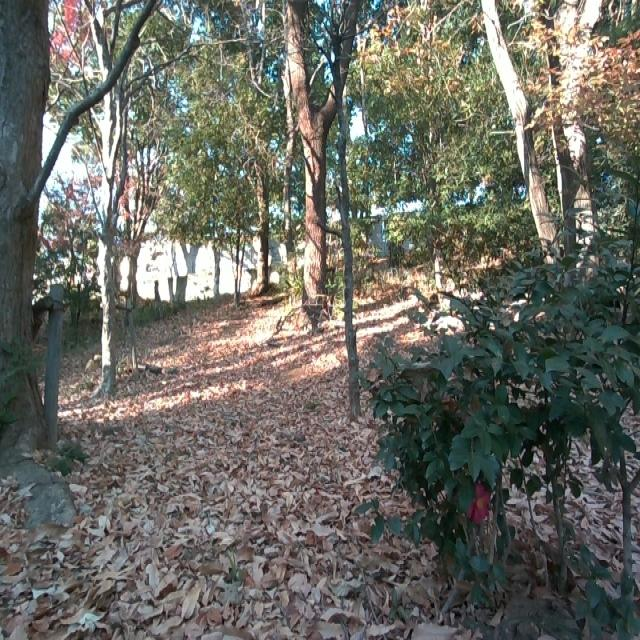bush: (362, 240, 640, 620)
tree: (0, 0, 150, 448), (474, 1, 622, 257), (287, 0, 367, 331), (89, 0, 139, 388), (230, 0, 279, 304)
